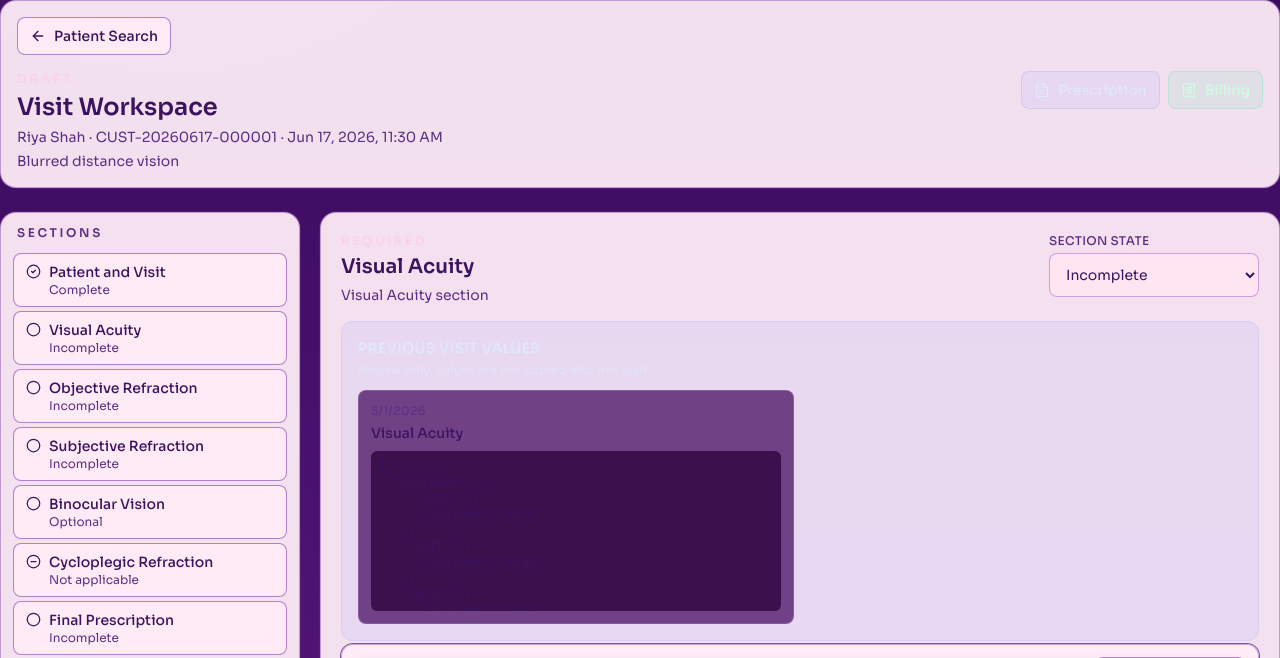
Test: VisitWorkspacePage examination workspace › shows objective refraction method options for normal refraction visits
The width and height of the screenshot is (1280, 658).
Click the button "Objective Refraction Incomplete" at coordinates (150, 396), box [13,369,287,423]
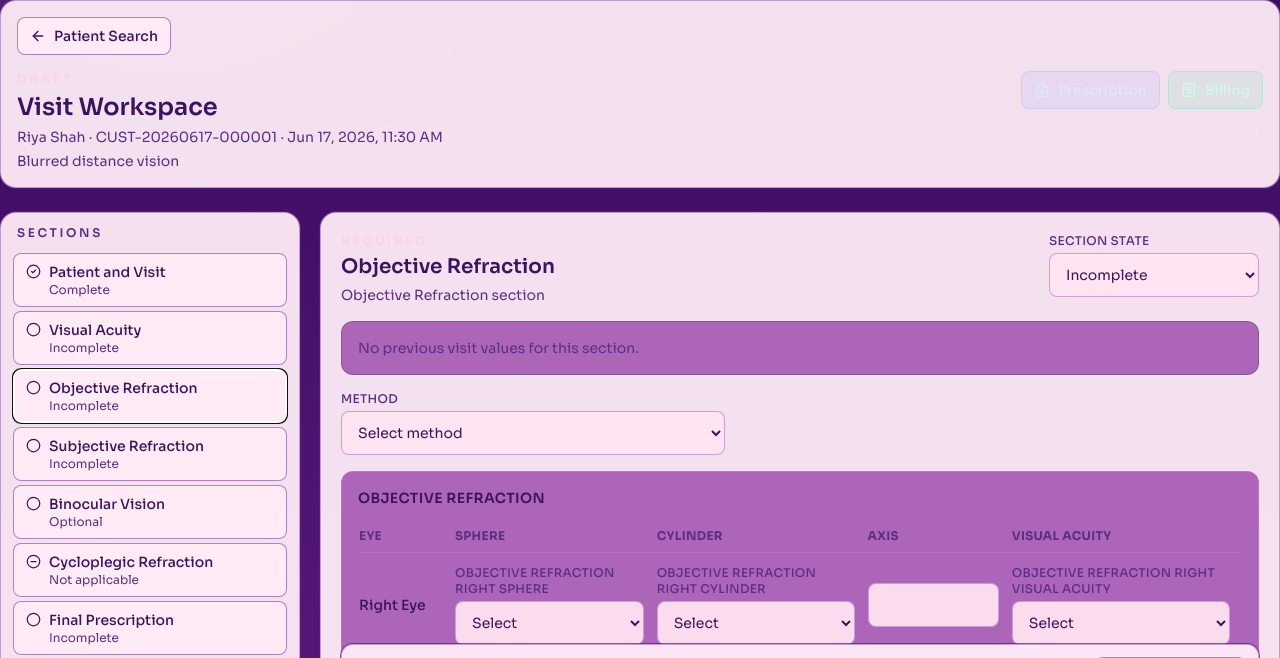
Now the dropdown labelled "Method" is shown, box [341,411,725,455]
